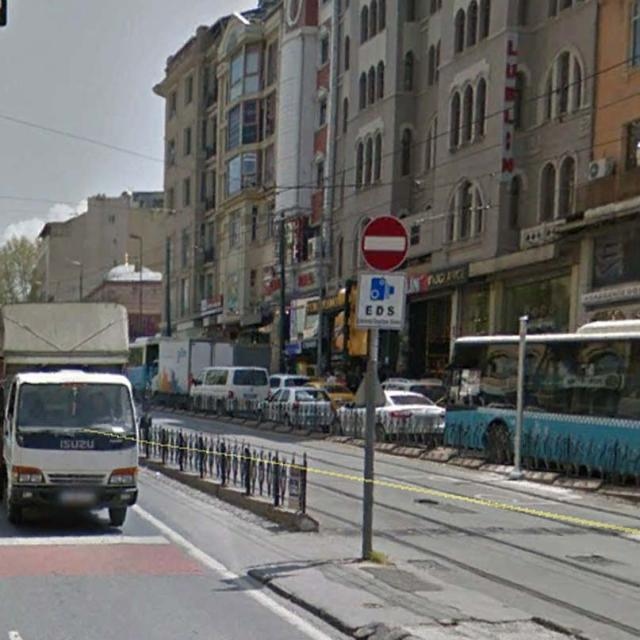girisyok: (362, 214, 409, 272)
